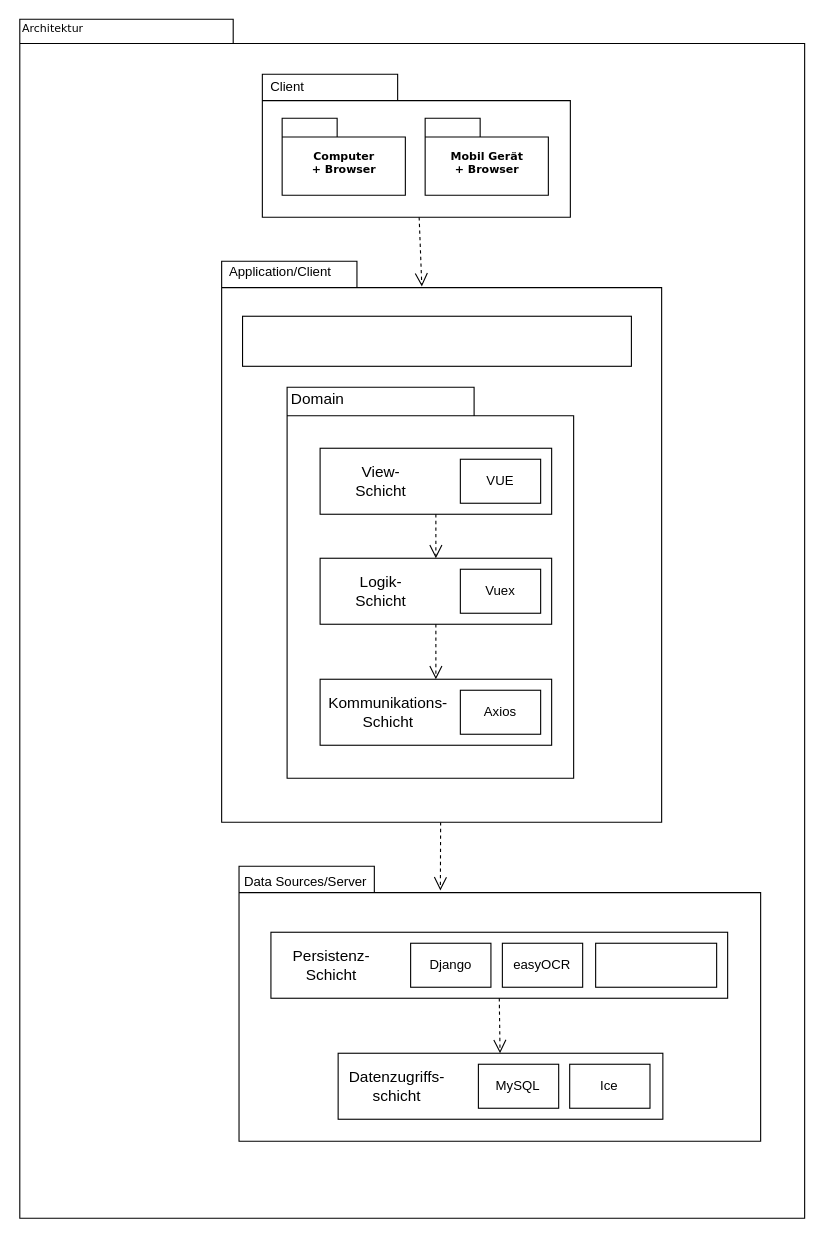
Image size: 824x1238. Some labels were removed from this diagram. Here are the shapes that lost their labels. From the top down, the centre of each, then its label:
At (436,340): "Hosting-und-Verwaltungs-Schicht".
At (656,964): "SpeechRecognition".
